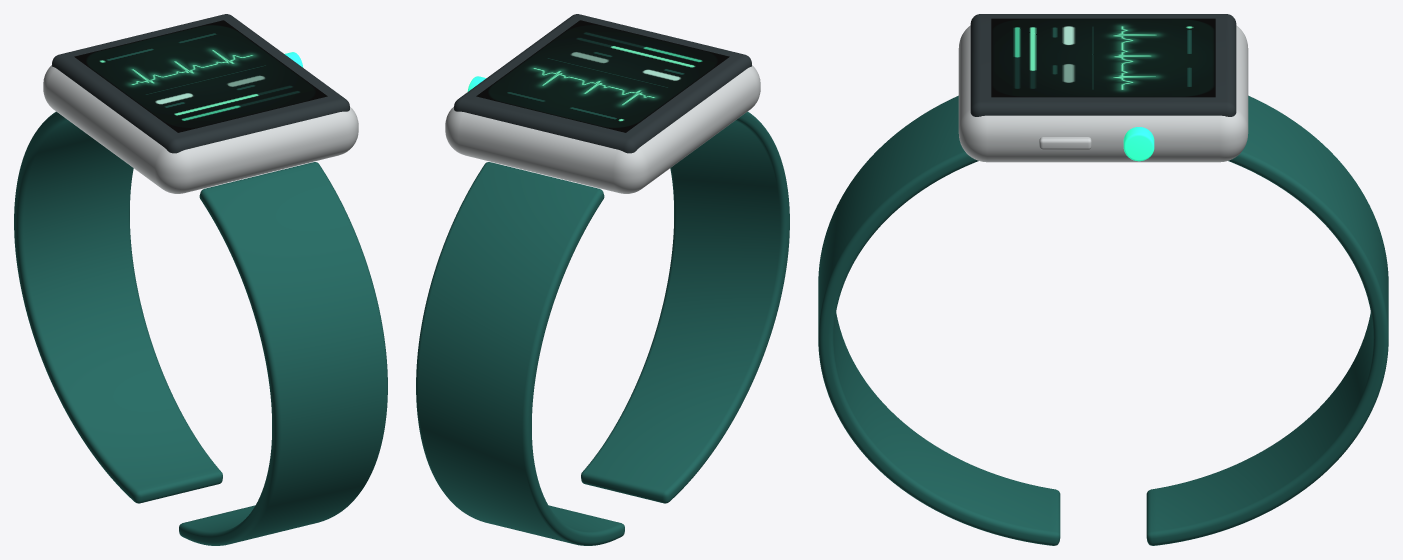
The model's file is teleband.glb.
3 renders of one model, left to right at view 1: azimuth 30°, elevation 25°; view 2: azimuth 150°, elevation 25°; view 3: azimuth 270°, elevation 25°, orthographic. The views are drawn at different scales.
Parts seen in each view (by area): view 1: TeleBand; view 2: TeleBand; view 3: TeleBand.
Part boxes in pixels (x1,y1,x2,y2): TeleBand: (14,14,387,545); TeleBand: (416,14,789,545); TeleBand: (818,14,1388,545).
Bounding box in the file's own units: 2.23 × 4.34 × 4.81.
6 materials, 1 textured.
